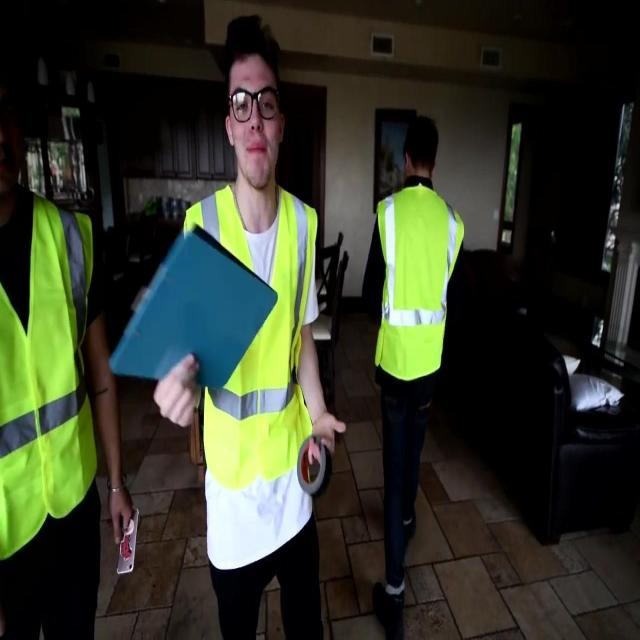Vest: (180, 187, 319, 488), (1, 191, 97, 564), (372, 186, 466, 380)
